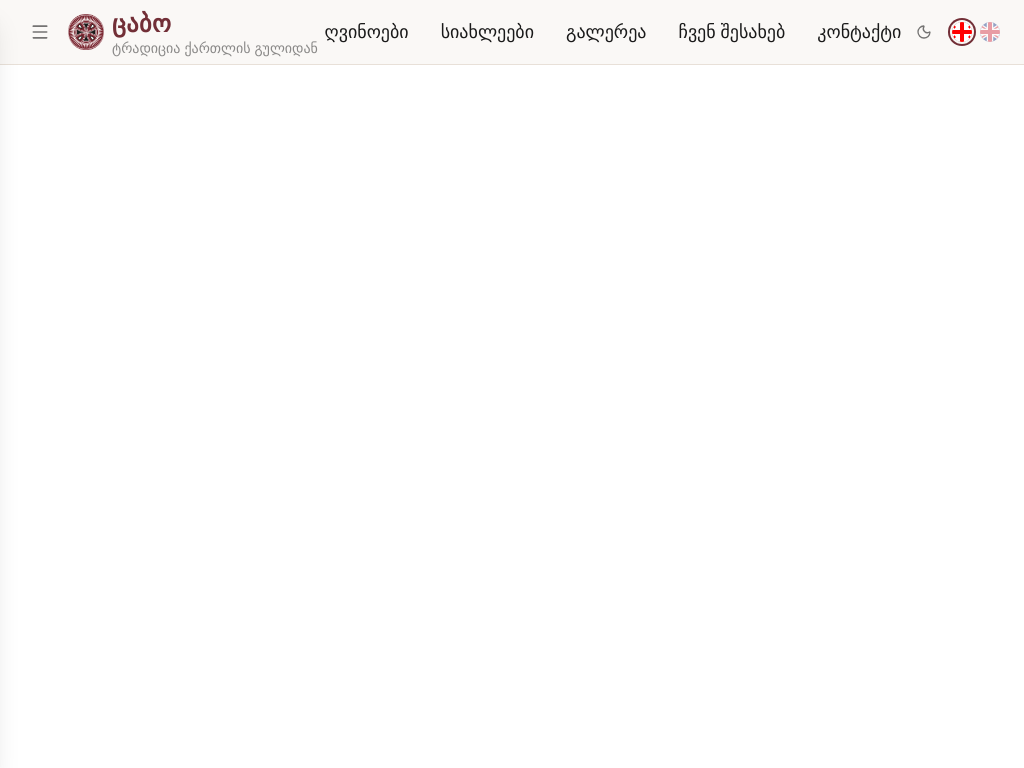
Test: TsabolaHeader › renders a mobile menu toggle that opens a nav drawer
This screenshot has width=1024, height=768.
Click the button named "Open navigation": click(40, 32) [24, 16, 56, 48]
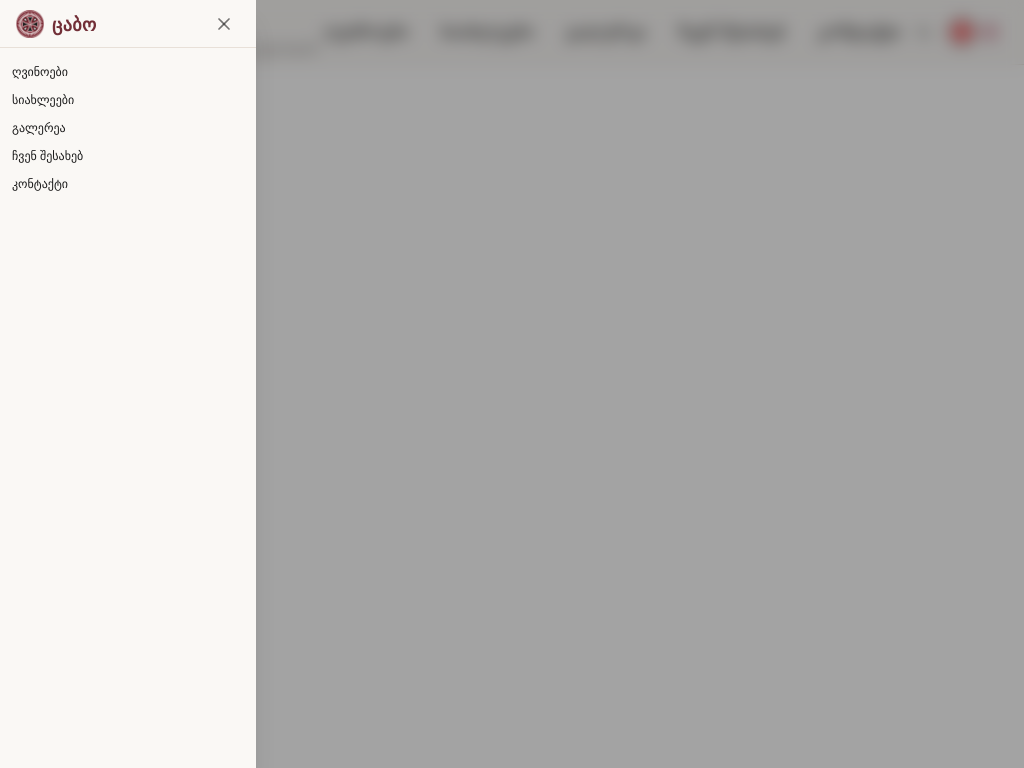
Check: the button named "Open navigation" is expanded, box [24, 16, 56, 48]
